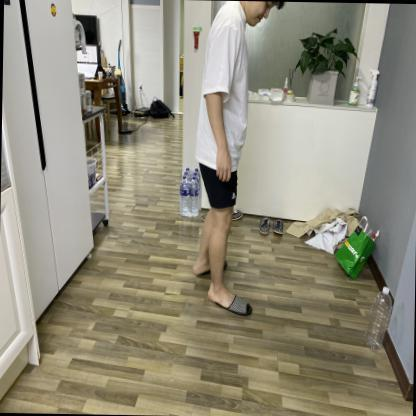no_safety-shoe: (206, 287, 260, 327)
